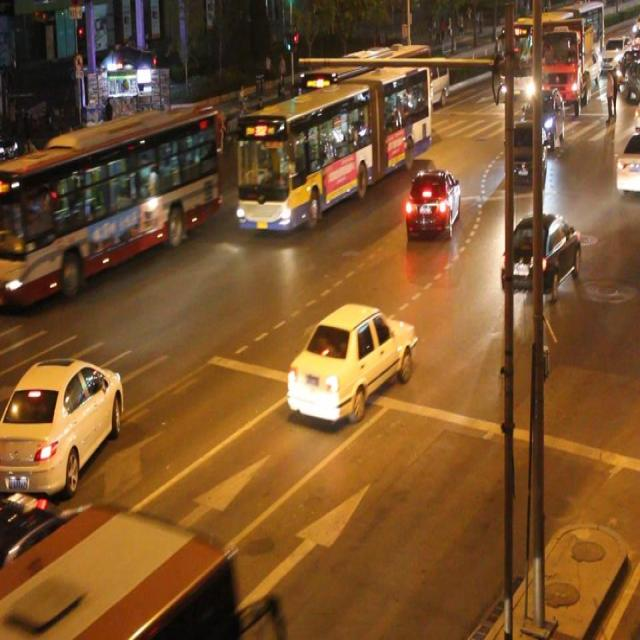car: (1, 354, 122, 493), (286, 301, 416, 421), (499, 210, 578, 293), (403, 165, 460, 238), (503, 120, 544, 188)
van: (1, 106, 217, 301), (239, 61, 430, 228), (0, 505, 236, 640)
